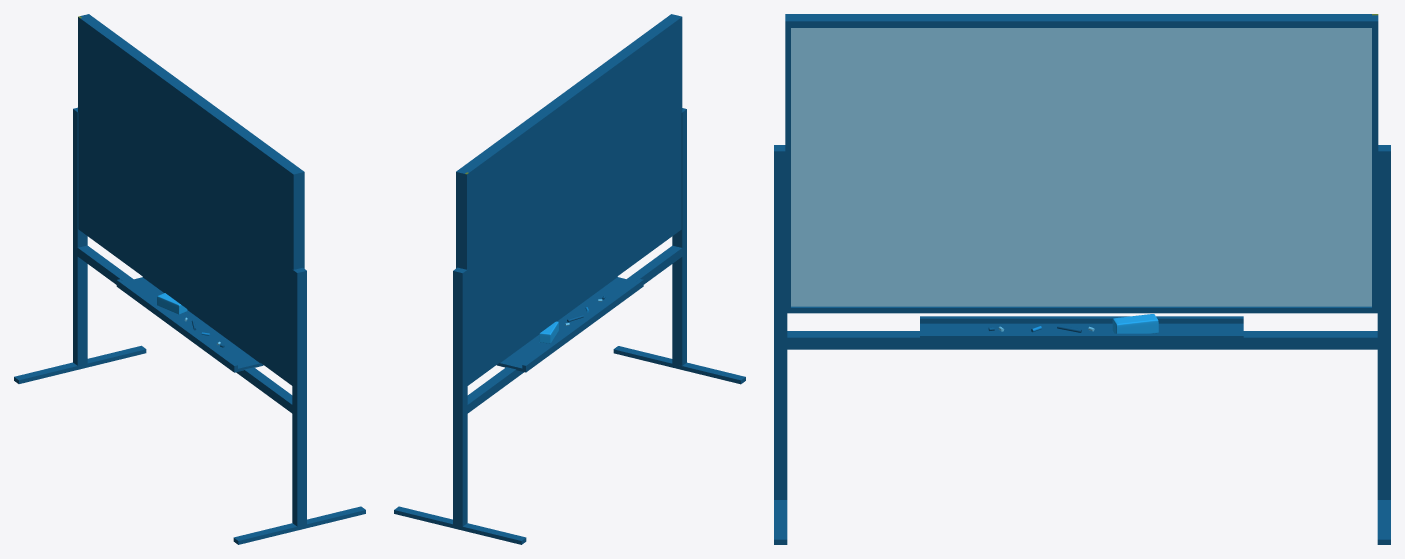
The model's file is Board.glb.
3 renders of one model, left to right at view 1: azimuth 30°, elevation 25°; view 2: azimuth 150°, elevation 25°; view 3: azimuth 270°, elevation 25°, orthographic. The views are drawn at different scales.
Parts seen in each view (by area): view 1: pCube1, pCube3, pCube7, pCube2, pCube6, pCube4, pCube5; view 2: pCube1, pCube2, pCube7, pCube3, pCube6, pCube4, pCube5; view 3: pCube1, pCube7, pCube6, pCube2, pCube3, pCube8.
Part boxes in pixels (x1,y1,x2,y2): pCube1: (78,14,304,385); pCube3: (292,267,306,526); pCube7: (116,277,263,372); pCube2: (73,107,87,366); pCube6: (74,245,295,415); pCube4: (14,345,146,383); pCube5: (233,506,365,544); pCube1: (456,14,682,385); pCube2: (453,267,467,526); pCube7: (497,276,643,372); pCube3: (672,108,686,365); pCube6: (465,245,682,413); pCube4: (394,506,526,544); pCube5: (613,346,745,384); pCube1: (785,14,1378,313); pCube7: (920,316,1243,345); pCube6: (778,331,1385,349); pCube2: (1377,145,1390,499); pCube3: (774,145,787,499); pCube8: (1112,314,1158,333).
Size of the model in its own units: 3.96 by 10.46 by 12.06.
